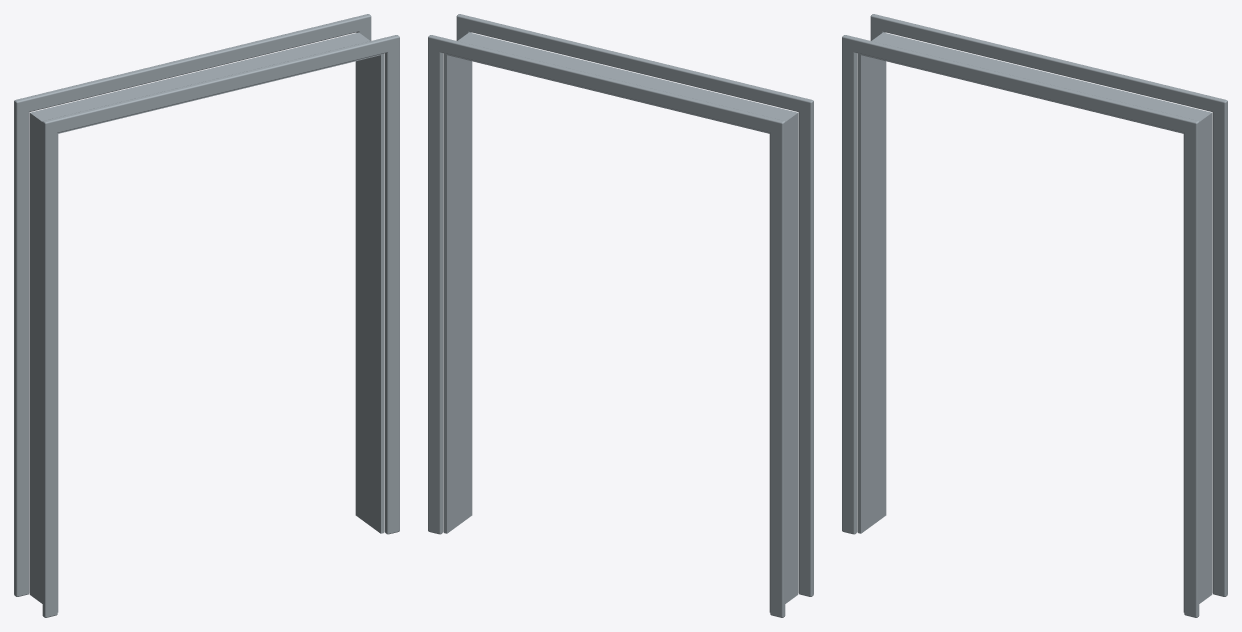
File: SM_SwingDoorFrame.glb
3 views of the same model, side by side, from view 1: azimuth 30°, elevation 25°; view 2: azimuth 150°, elevation 25°; view 3: azimuth 330°, elevation 25° (orthographic).
Parts seen in each view (by area): view 1: SM_SwingDoorFrame; view 2: SM_SwingDoorFrame; view 3: SM_SwingDoorFrame.
Boxes of the visible parts, <box> form: SM_SwingDoorFrame: <box>14,14,399,617</box>; SM_SwingDoorFrame: <box>428,14,813,617</box>; SM_SwingDoorFrame: <box>842,14,1227,617</box>.
Bounding box in the file's own units: 1.62 × 2.16 × 0.25.
Materials: 1 (1 with a texture image).
